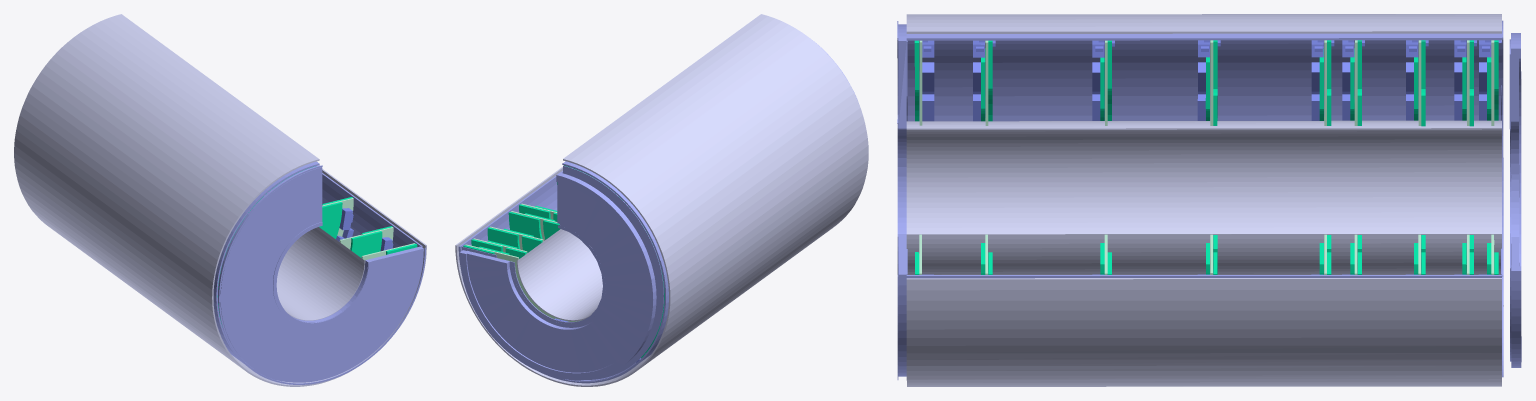
Rendered from SCT-SideA-cut4.glb.
3 views of the same model, side by side, from view 1: azimuth 30°, elevation 25°; view 2: azimuth 150°, elevation 25°; view 3: azimuth 270°, elevation 25° (orthographic). The views are drawn at different scales.
Parts seen in each view (by area): view 1: null; view 2: null; view 3: null.
Boxes of the visible parts, x1,y1,x2,y2 form: null: (14, 14, 426, 386); null: (455, 14, 868, 386); null: (897, 14, 1521, 386).
Bounding box in the file's own units: 1.22 × 1.22 × 2.04.
